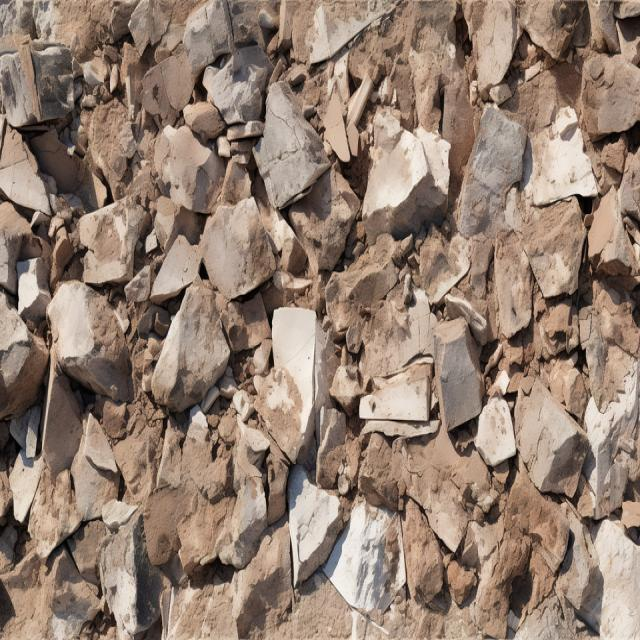Pecahan Agregat: (49, 36, 612, 598)
